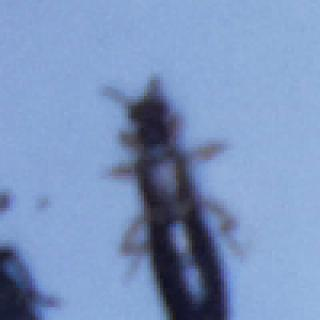earwig: (84, 70, 268, 320)
